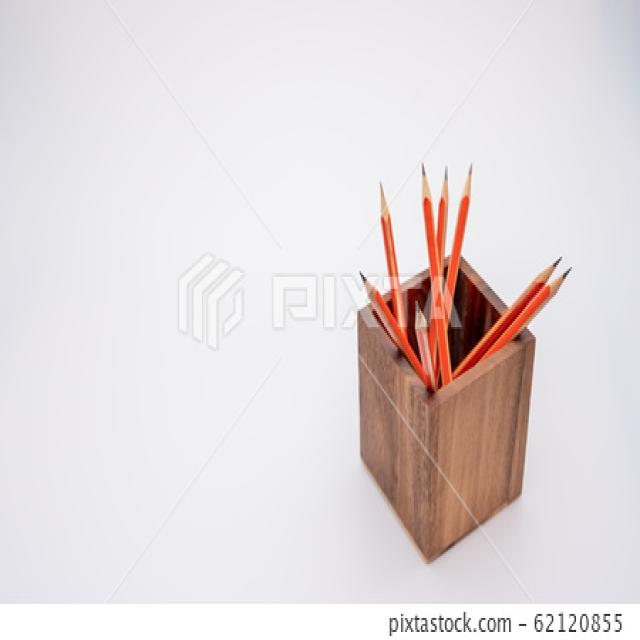pencil: (449, 249, 571, 390), (479, 261, 577, 370), (355, 268, 436, 397), (429, 152, 474, 384), (418, 150, 457, 393), (378, 167, 411, 348), (428, 153, 453, 354), (414, 294, 440, 389)
